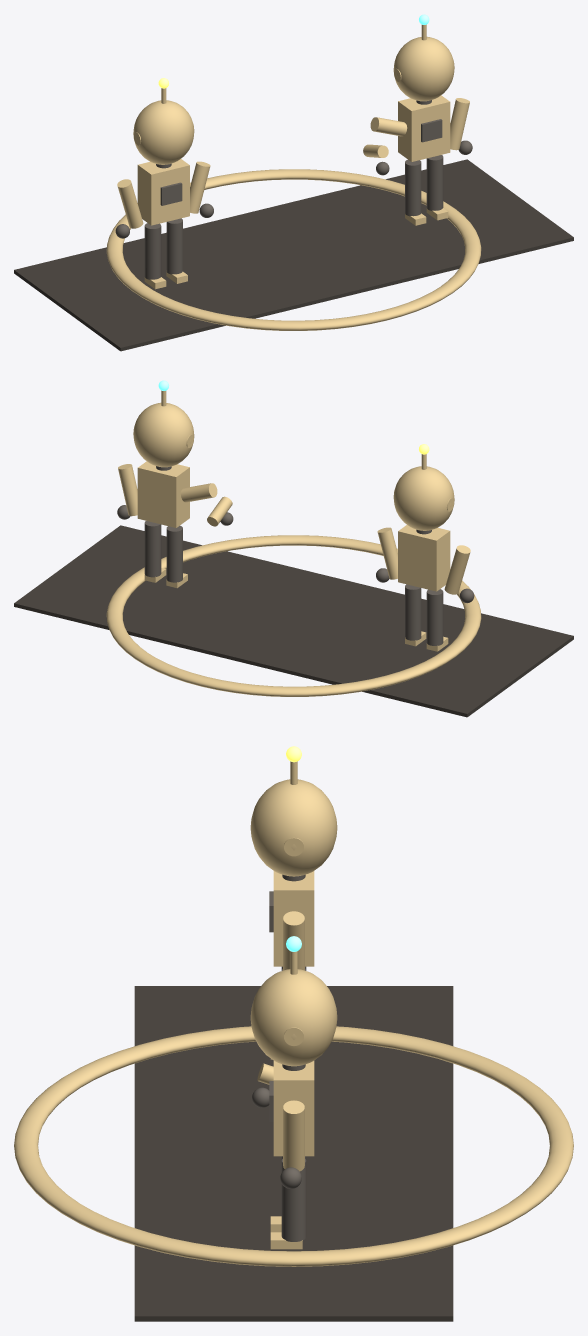
File: agents.glb
The picture shows the model from 3 angles, top to bottom: view 1: azimuth 30°, elevation 25°; view 2: azimuth 150°, elevation 25°; view 3: azimuth 270°, elevation 25°; orthographic projection. The views are drawn at different scales.
Visible parts, largest first — view 1: Stage, Stage ring, Agent 01 head, Agent 02 head, Agent 01 torso, Agent 02 torso, Agent 01 leg L, Agent 02 leg R, Agent 02 leg L, Agent 01 leg R, Agent 01 arm L, Agent 02 arm R (+4 smaller); view 2: Stage, Stage ring, Agent 01 head, Agent 02 head, Agent 01 torso, Agent 02 torso, Agent 01 leg L, Agent 02 leg R, Agent 02 leg L, Agent 01 leg R, Agent 01 arm L, Agent 02 arm R (+2 smaller); view 3: Stage, Stage ring, Agent 01 head, Agent 02 head, Agent 01 torso, Agent 02 torso, Agent 02 leg R, Agent 02 arm R, Agent 01 arm R.
Part boxes in pixels (bbox=[...]): Stage: bbox=[14, 159, 573, 351]; Stage ring: bbox=[106, 169, 481, 330]; Agent 01 head: bbox=[133, 100, 194, 164]; Agent 02 head: bbox=[393, 36, 454, 101]; Agent 01 torso: bbox=[137, 159, 189, 225]; Agent 02 torso: bbox=[398, 95, 450, 161]; Agent 01 leg L: bbox=[144, 223, 161, 279]; Agent 02 leg R: bbox=[426, 155, 443, 210]; Agent 02 leg L: bbox=[405, 159, 421, 216]; Agent 01 leg R: bbox=[166, 218, 182, 274]; Agent 01 arm L: bbox=[117, 179, 143, 228]; Agent 02 arm R: bbox=[450, 98, 469, 150]; Stage: bbox=[14, 525, 573, 717]; Stage ring: bbox=[106, 535, 481, 696]; Agent 01 head: bbox=[393, 466, 454, 530]; Agent 02 head: bbox=[133, 402, 194, 467]; Agent 01 torso: bbox=[398, 525, 450, 591]; Agent 02 torso: bbox=[137, 461, 189, 527]; Agent 01 leg L: bbox=[426, 589, 443, 645]; Agent 02 leg R: bbox=[144, 521, 161, 577]; Agent 02 leg L: bbox=[166, 525, 182, 582]; Agent 01 leg R: bbox=[405, 584, 421, 640]; Agent 01 arm L: bbox=[444, 545, 470, 594]; Agent 02 arm R: bbox=[118, 464, 137, 516]; Stage: bbox=[134, 986, 453, 1321]; Stage ring: bbox=[14, 1026, 573, 1266]; Agent 01 head: bbox=[250, 779, 337, 876]; Agent 02 head: bbox=[250, 969, 337, 1066]; Agent 01 torso: bbox=[273, 871, 314, 966]; Agent 02 torso: bbox=[273, 1061, 314, 1156]; Agent 02 leg R: bbox=[281, 1159, 306, 1241]; Agent 02 arm R: bbox=[283, 1100, 304, 1171]; Agent 01 arm R: bbox=[283, 911, 304, 970].
Bounding box in the file's own units: 5.4 × 2.4 × 3.87.
